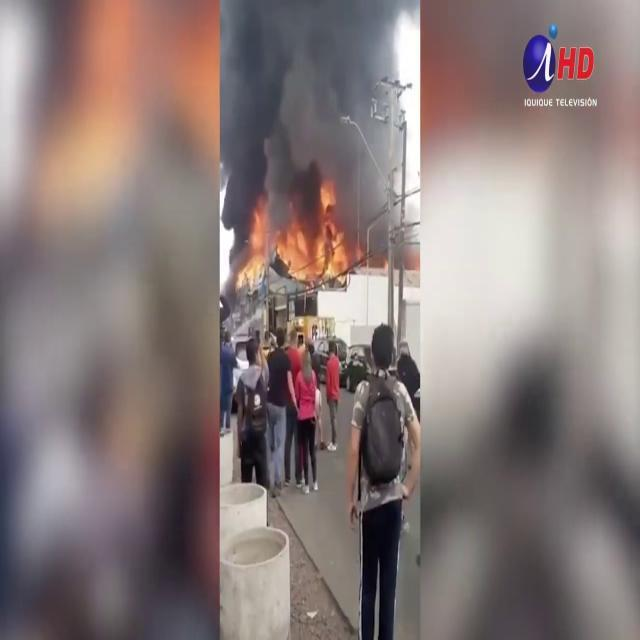Fire: (235, 186, 355, 290)
Smoke: (221, 2, 413, 225)
